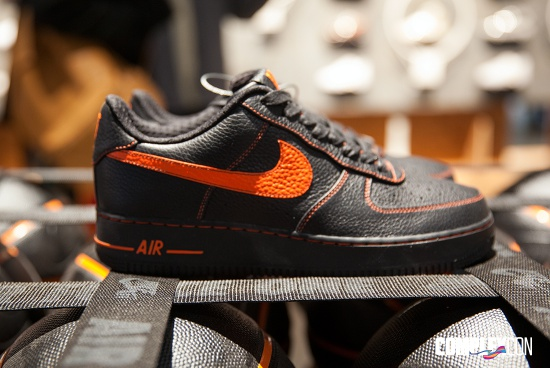nike: (118, 137, 318, 204)
